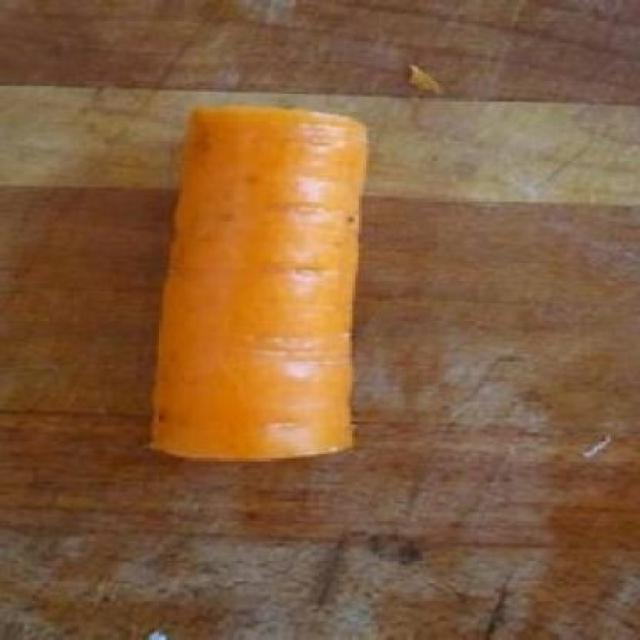carrot: (120, 91, 394, 483)
